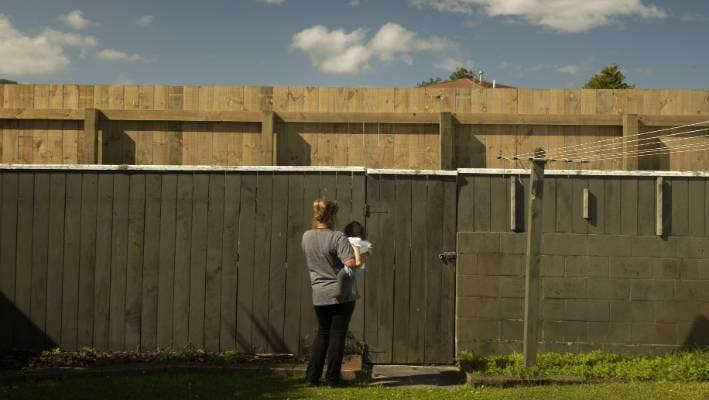Persona: (299, 201, 364, 382)
Poste: (522, 149, 543, 368)
Valla: (1, 161, 709, 353), (1, 82, 709, 172)
